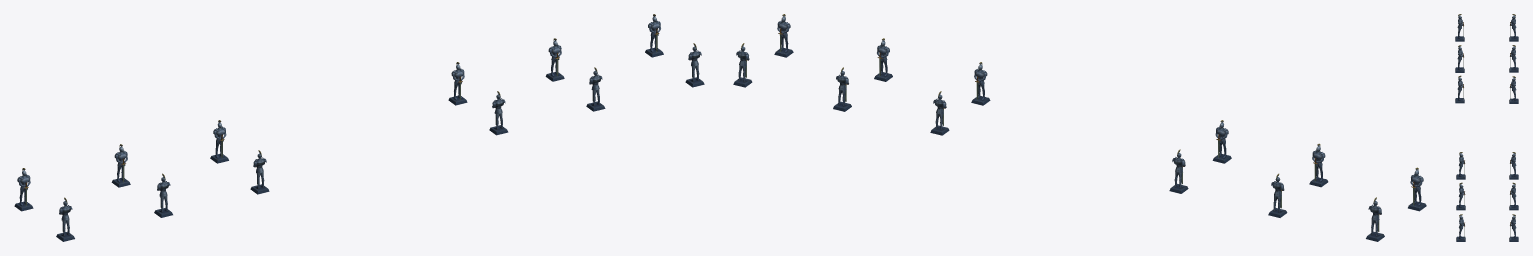
The model's file is wujian59.fbx.
The picture shows the model from 3 angles, left to right: view 1: azimuth 30°, elevation 25°; view 2: azimuth 150°, elevation 25°; view 3: azimuth 270°, elevation 25°; orthographic projection. The views are drawn at different scales.
Visible parts, largest first — view 1: wujian59; view 2: wujian59; view 3: wujian59.
Part boxes in pixels (x1,y1,x2,y2): wujian59: [14, 14, 704, 241]; wujian59: [733, 14, 1426, 241]; wujian59: [1455, 14, 1518, 241].
Size of the model in its own units: 9289 by 545 by 1224.
1 material, 1 textured.
